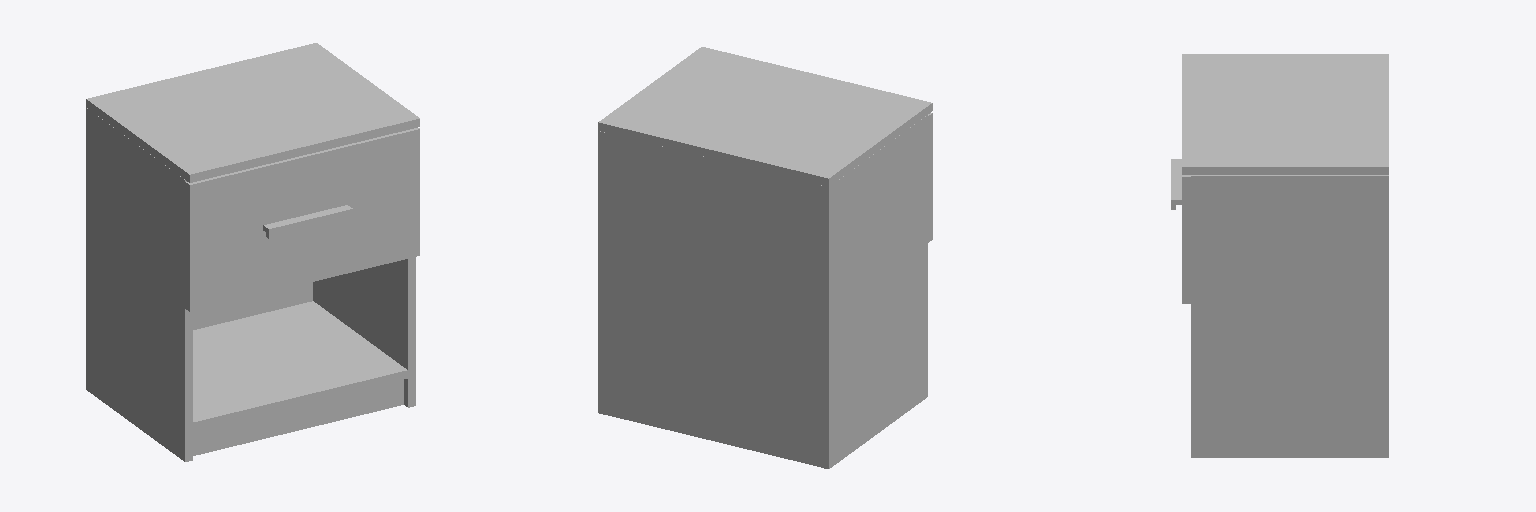
Rendered from KABDRUP.obj.
The picture shows the model from 3 angles: view 1: azimuth 30°, elevation 25°; view 2: azimuth 150°, elevation 25°; view 3: azimuth 270°, elevation 25°; orthographic projection.
Visible parts, largest first — view 1: Cube.002_Cube.003, Cube.008_Cube.009; view 2: Cube.002_Cube.003; view 3: Cube.002_Cube.003, Cube.008_Cube.009.
Part boxes in pixels (bbox=[...]): Cube.002_Cube.003: bbox=[86, 43, 419, 461]; Cube.008_Cube.009: bbox=[263, 205, 352, 238]; Cube.002_Cube.003: bbox=[598, 47, 932, 468]; Cube.002_Cube.003: bbox=[1182, 54, 1388, 457]; Cube.008_Cube.009: bbox=[1171, 159, 1181, 209].
Bounding box in the file's own units: 0.8222 × 0.989 × 0.6736.